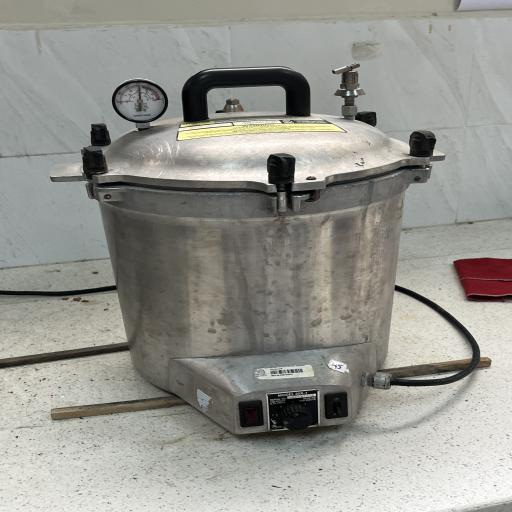Autoclave: (44, 57, 451, 442)
